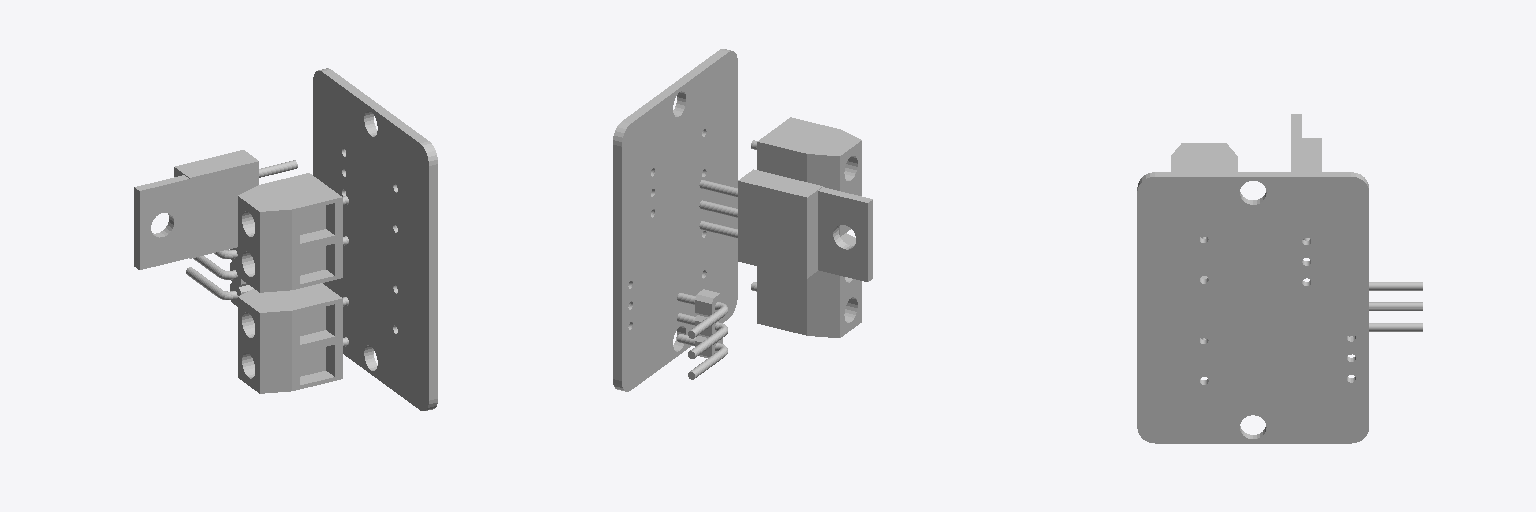
File: exported_from_freecad.obj
3 views of the same model, side by side, from view 1: azimuth 30°, elevation 25°; view 2: azimuth 150°, elevation 25°; view 3: azimuth 270°, elevation 25° (orthographic).
Visible parts, largest first — view 1: exported_from_freecad; view 2: exported_from_freecad; view 3: exported_from_freecad.
Boxes of the visible parts, box(x1,y1,x2,y2) form: exported_from_freecad: box(134, 68, 437, 410); exported_from_freecad: box(613, 49, 872, 391); exported_from_freecad: box(1137, 114, 1422, 443).
Bounding box in the file's own units: 28.7 × 33 × 32.